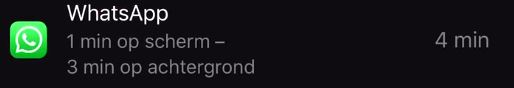name: (61, 1, 176, 28)
time: (63, 56, 119, 80), (63, 31, 117, 55)
